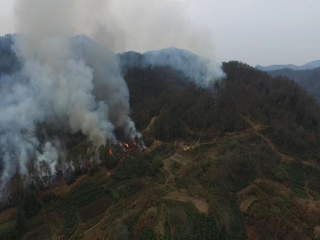smoke: (2, 6, 230, 180)
